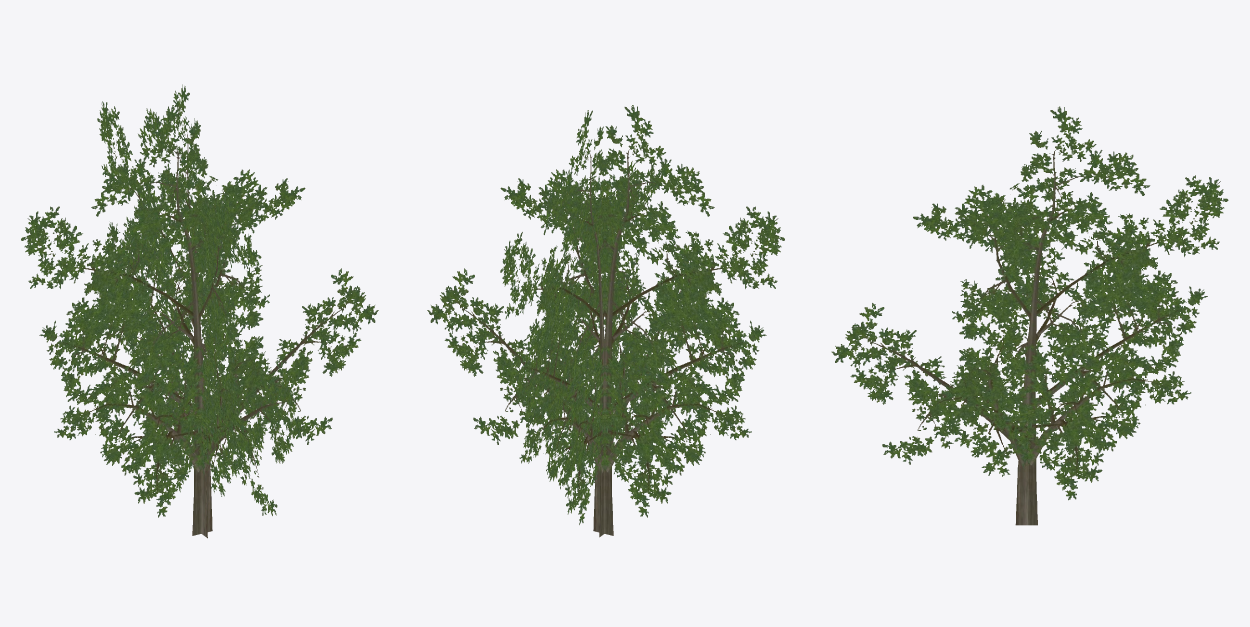
Rendered from ash_medium_far.glb.
The picture shows the model from 3 angles, left to right: view 1: azimuth 30°, elevation 25°; view 2: azimuth 150°, elevation 25°; view 3: azimuth 270°, elevation 25°; orthographic projection. The views are drawn at different scales.
Parts seen in each view (by area): view 1: impostor; view 2: impostor; view 3: impostor.
Part boxes in pixels (<box>): impostor: <box>21,84,378,538</box>; impostor: <box>427,105,784,537</box>; impostor: <box>831,106,1228,525</box>.
Size of the model in its own units: 9.79 by 11 by 9.79.
1 material, 1 textured.
